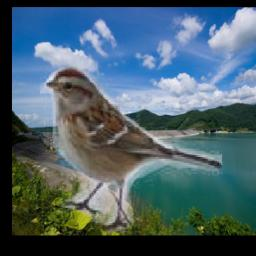Sparrow: (40, 60, 223, 235)
